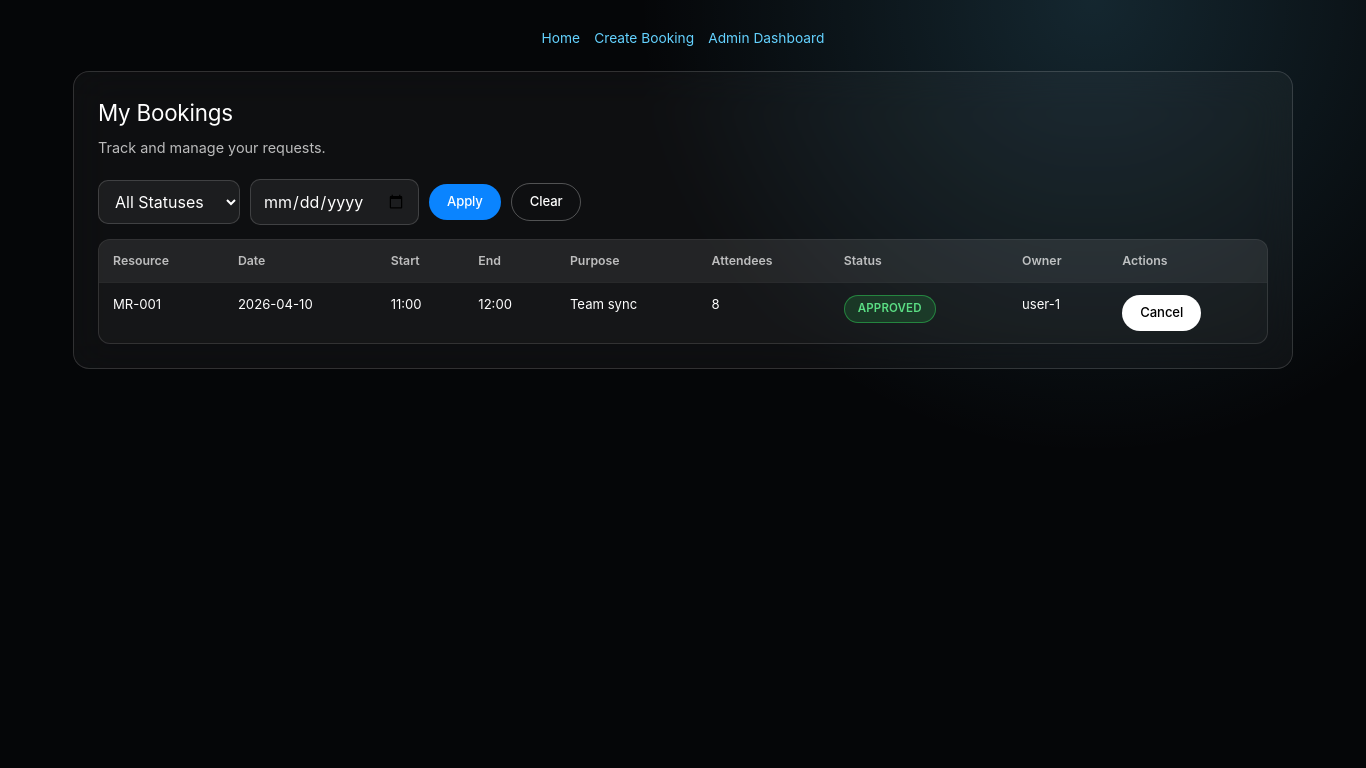
Scenario: MyBookingsPage › cancels an owned booking after confirmation
Expected: the text "MR-001" is shown, [99,282,224,343]
Click the button "Cancel" at [1162, 313], box [1122,295,1201,331]
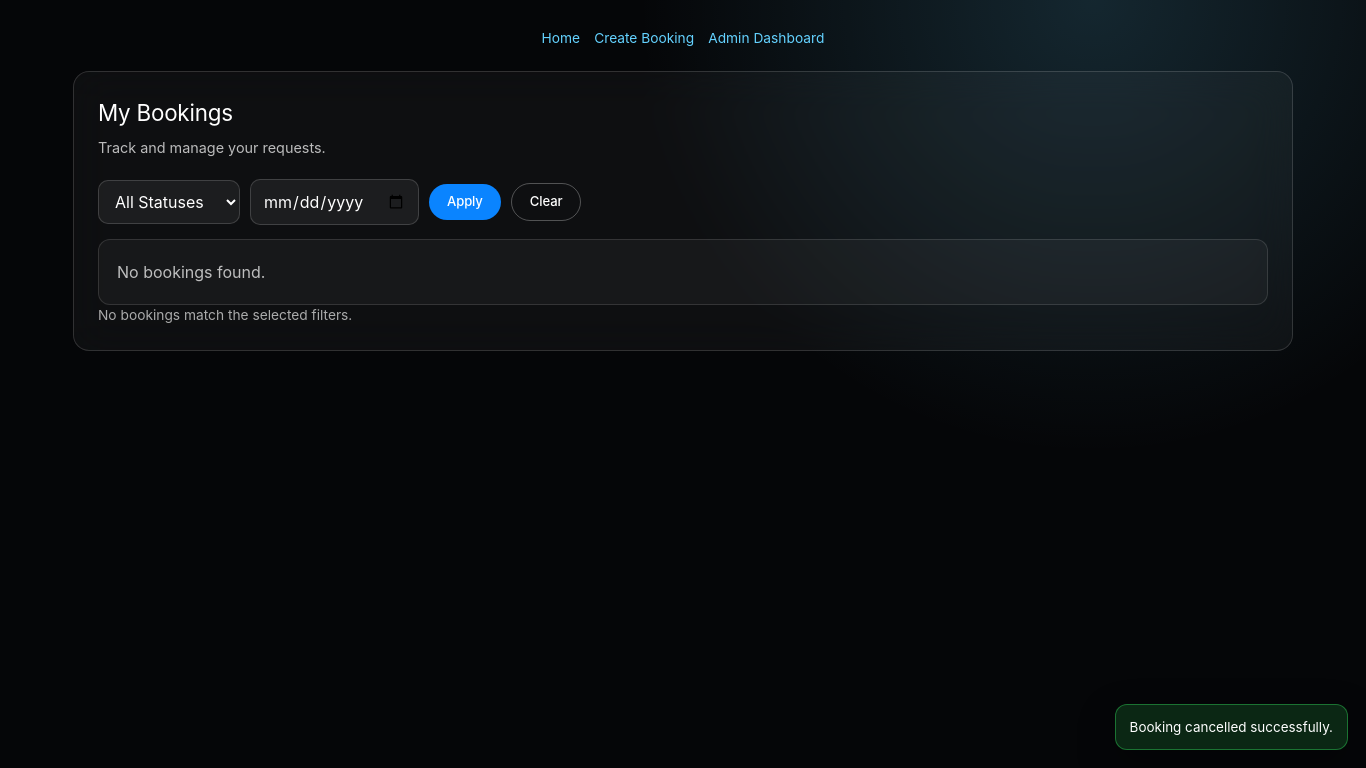
Now the text "Booking cancelled successfully." is shown, box [1115,704,1348,750]
